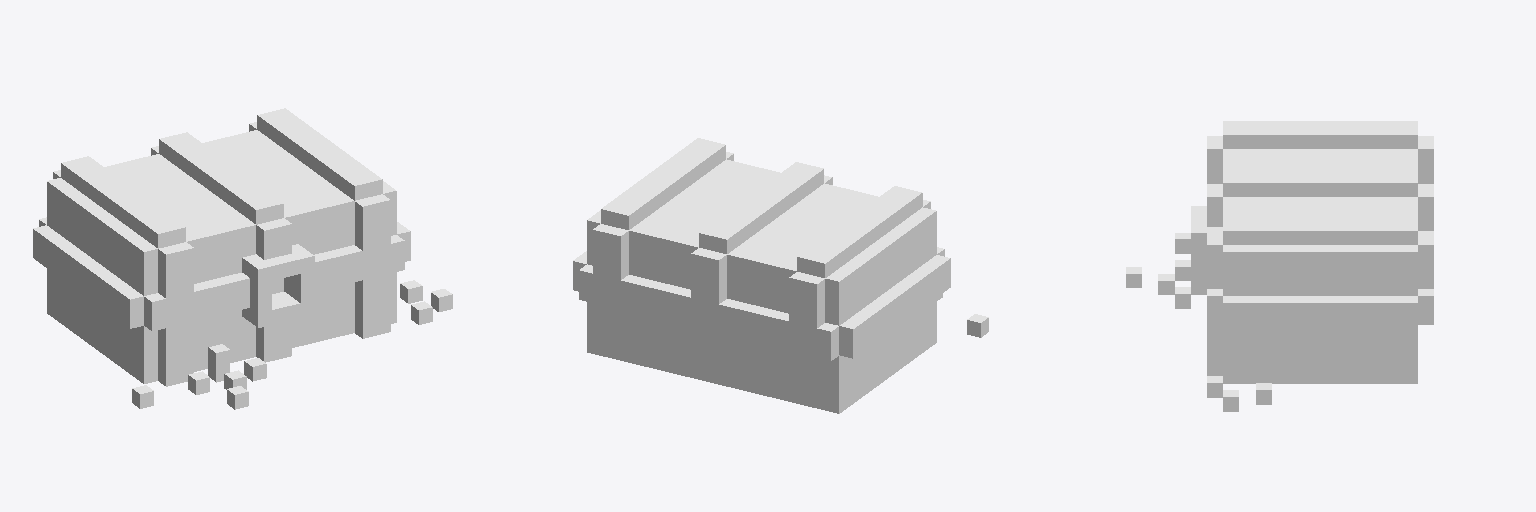
Rendered from ChestNoSword.obj.
3 views of the same model, side by side, from view 1: azimuth 30°, elevation 25°; view 2: azimuth 150°, elevation 25°; view 3: azimuth 270°, elevation 25° (orthographic).
Visible parts, largest first — view 1: object 1; view 2: object 1; view 3: object 1.
Part boxes in pixels (left/top/right/bottom): object 1: left=33, top=108, right=452, bottom=409; object 1: left=573, top=138, right=988, bottom=413; object 1: left=1126, top=121, right=1433, bottom=411.
Size of the model in its own units: 2.4 by 1 by 1.9.